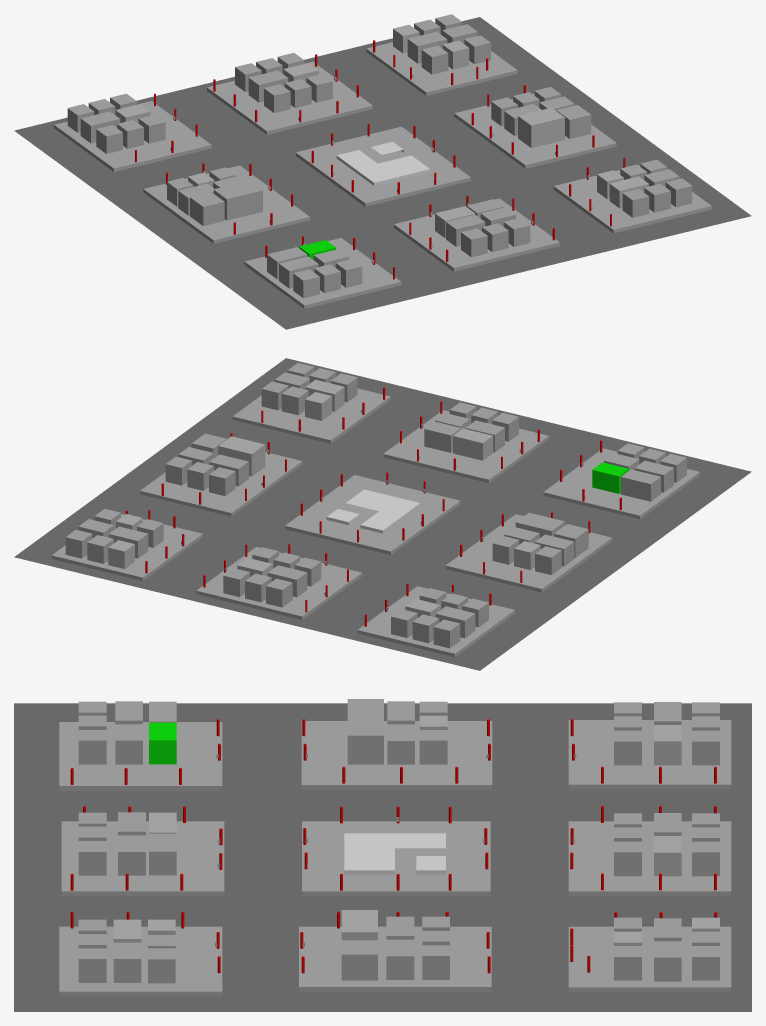
Rendered from Cenário.fbx.
The picture shows the model from 3 angles, top to bottom: view 1: azimuth 30°, elevation 25°; view 2: azimuth 150°, elevation 25°; view 3: azimuth 270°, elevation 25°; orthographic projection. The views are drawn at different scales.
Parts seen in each view (by area): view 1: pPlane1, pCube105, pCube98, pCube104, pCube106, pCube99, pCube102, pCube7, pCube103, pCube100, pCube107, pCube47 (+29 smaller); view 2: pPlane1, pCube105, pCube102, pCube104, pCube103, pCube106, pCube100, pCube98, pCube99, pCube7, pCube107, pCube47 (+32 smaller); view 3: pPlane1, pCube105, pCube104, pCube102, pCube106, pCube100, pCube98, pCube99, pCube103, pCube7, pCube107, pCube58 (+34 smaller).
Boxes of the visible parts, x1,y1,x2,y2 form: pPlane1: (14, 17, 751, 329); pCube105: (295, 126, 470, 206); pCube98: (207, 61, 372, 134); pCube104: (143, 165, 309, 243); pCube106: (454, 93, 616, 168); pCube99: (54, 101, 211, 171); pCube102: (394, 198, 559, 271); pCube7: (366, 42, 517, 95); pCube103: (553, 165, 711, 233); pCube100: (244, 238, 401, 308); pCube107: (336, 141, 430, 185); pCube47: (518, 107, 564, 147); pPlane1: (14, 358, 751, 670); pCube105: (285, 475, 460, 554); pCube102: (383, 410, 548, 482); pCube104: (445, 514, 612, 592); pCube103: (232, 388, 390, 443); pCube106: (140, 452, 302, 516); pCube100: (543, 448, 699, 519); pCube98: (196, 547, 362, 619); pCube99: (357, 586, 514, 657); pCube7: (51, 514, 202, 580); pCube107: (326, 489, 420, 533); pCube47: (218, 436, 265, 476); pPlane1: (14, 703, 751, 1011); pCube105: (302, 821, 490, 896); pCube104: (301, 721, 492, 789); pCube102: (61, 821, 224, 896); pCube106: (299, 926, 491, 991); pCube100: (59, 722, 222, 790); pCube98: (568, 821, 731, 896); pCube99: (568, 720, 731, 789); pCube103: (59, 926, 222, 996); pCube7: (568, 926, 731, 991); pCube107: (344, 833, 445, 874); pCube58: (347, 712, 383, 764).
Size of the model in its own units: 29.79 by 1.61 by 30.13.
